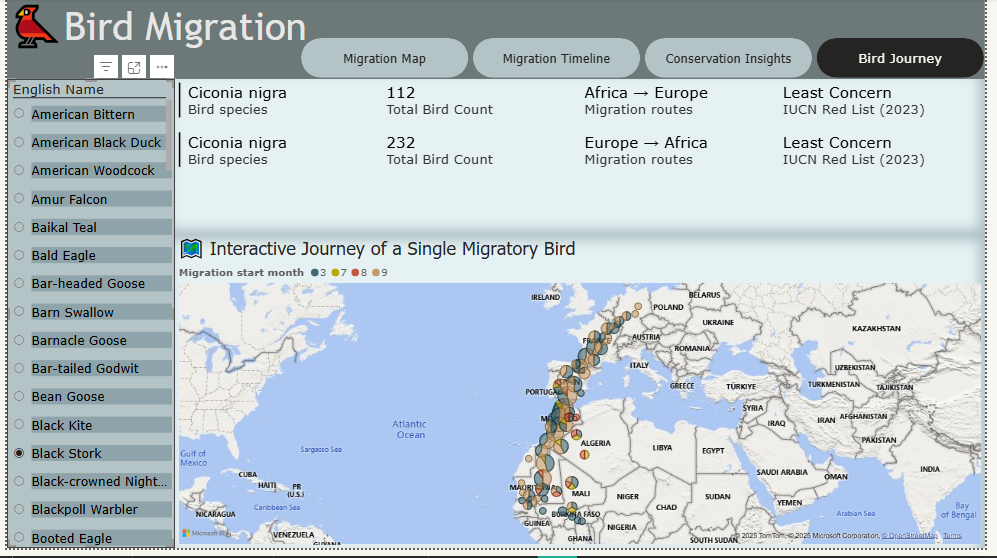

The dashboard page shown, as its layout file describes it:
{"tool":"powerbi","page":{"name":"Bird Journey","canvas":[1280,720],"ordinal":3},"visuals":[{"type":"textbox","title":"🐦Bird Migration","box":[0,0,1280,105.8],"z":0},{"type":"textbox","box":[0,105.7,219.9,614.6],"z":1000},{"type":"slicer","fields":{"Values":["Bird migration dataset2.English Name"]},"box":[0,105.7,219.9,614.6],"z":2000},{"type":"map","title":"🗺️ Interactive Journey of a Single Migratory Bird","fields":{"Size":["CountNonNull(Bird migration dataset2.ID)"],"X":["Bird migration dataset2.GPS_xx"],"Y":["Bird migration dataset2.GPS_yy"],"Series":["Bird migration dataset2.Migration start month"]},"box":[219.9,310.1,1060.1,410.2],"z":3000},{"type":"multiRowCard","fields":{"Values":["Bird migration dataset2.Bird species","Count(Bird migration dataset2.ID)","Bird migration dataset2.Migration routes","Bird migration dataset2.The IUCN Red List (2023)"]},"box":[219.9,106,1060.4,204.2],"z":4000},{"type":"pageNavigator","box":[385,52.9,894.9,52.9],"z":5000}]}

Visuals, with their boxes on the page's 1280x720 design canvas (x1, y1, x2, y2). These are canvas units, not pixel positions in the 997x558 screenshot, which may show the page scaled, cropped or inside an application window:
"🐦Bird Migration" textbox: {"left": 0, "top": 0, "right": 1280, "bottom": 106}
textbox: {"left": 0, "top": 106, "right": 220, "bottom": 720}
slicer - Bird migration dataset2.English Name: {"left": 0, "top": 106, "right": 220, "bottom": 720}
"🗺️ Interactive Journey of a Single Migratory Bird" map: {"left": 220, "top": 310, "right": 1280, "bottom": 720}
multiRowCard - Bird migration dataset2.Bird species x Count(Bird migration dataset2.ID): {"left": 220, "top": 106, "right": 1280, "bottom": 310}
pageNavigator: {"left": 385, "top": 53, "right": 1280, "bottom": 106}
